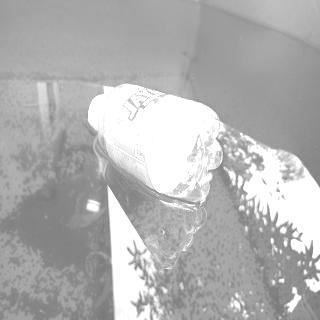bottle: (86, 81, 226, 205)
